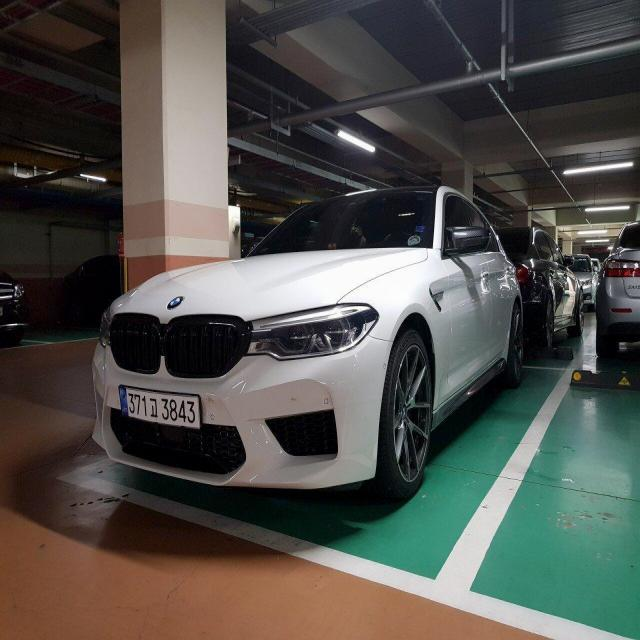car: (84, 178, 527, 529)
illegal_plate: (118, 382, 202, 437)
